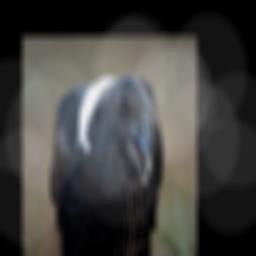Crow: (51, 73, 164, 256)
